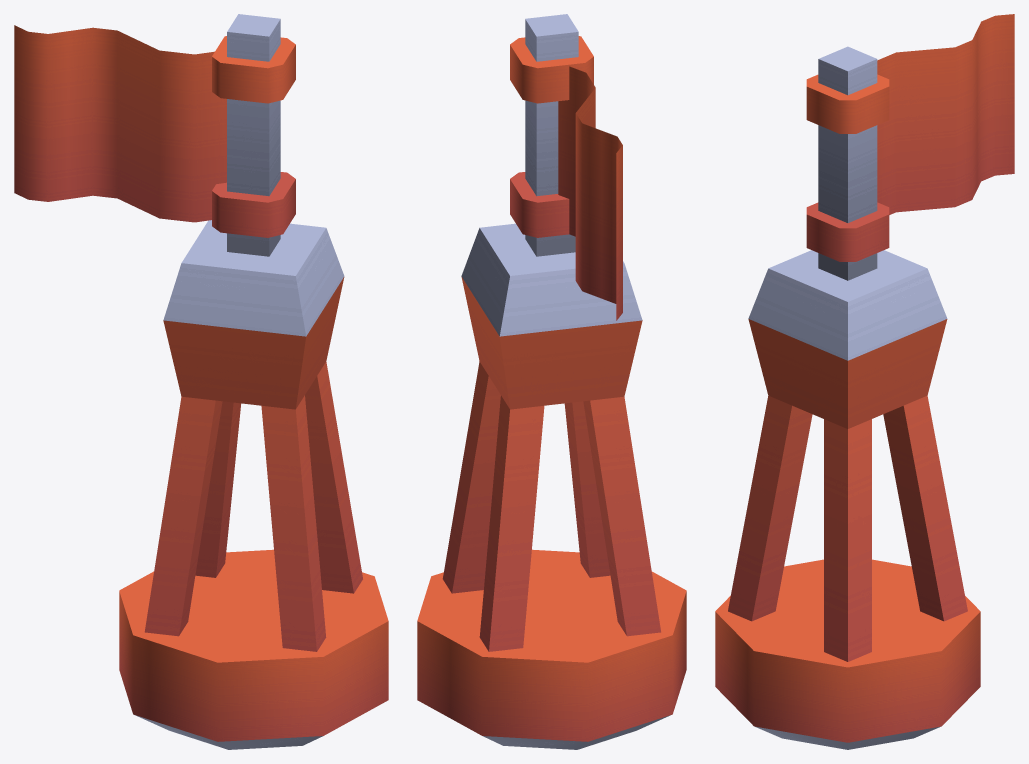
File: sky-buoy.glb
3 renders of one model, left to right at view 1: azimuth 30°, elevation 25°; view 2: azimuth 150°, elevation 25°; view 3: azimuth 270°, elevation 25°, orthographic. The views are drawn at different scales.
Parts seen in each view (by area): view 1: sky-buoy; view 2: sky-buoy; view 3: sky-buoy.
Part boxes in pixels (x1,y1,x2,y2): sky-buoy: [14, 14, 388, 749]; sky-buoy: [417, 14, 686, 749]; sky-buoy: [715, 14, 1014, 749].
Bounding box in the file's own units: 1 × 2.4 × 1.
Materials: 1 (1 with a texture image).
